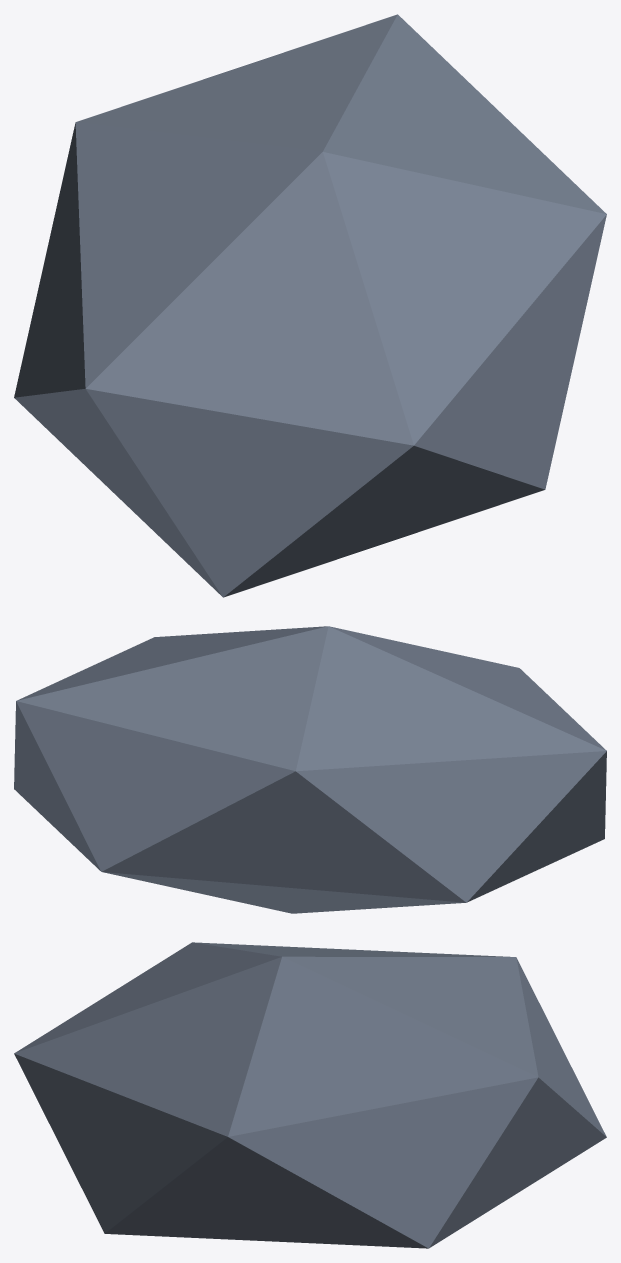
The model's file is EXTG_BranchStone_03.glb.
3 views of the same model, one above another, from view 1: azimuth 30°, elevation 25°; view 2: azimuth 150°, elevation 25°; view 3: azimuth 270°, elevation 25° (orthographic). The views are drawn at different scales.
Parts seen in each view (by area): view 1: EXTG_BranchStone_03; view 2: EXTG_BranchStone_03; view 3: EXTG_BranchStone_03.
Part boxes in pixels (x1,y1,x2,y2): EXTG_BranchStone_03: (14,14,606,597); EXTG_BranchStone_03: (14,626,606,913); EXTG_BranchStone_03: (14,942,606,1248).
Bounding box in the file's own units: 0.9462 × 0.5108 × 1.
